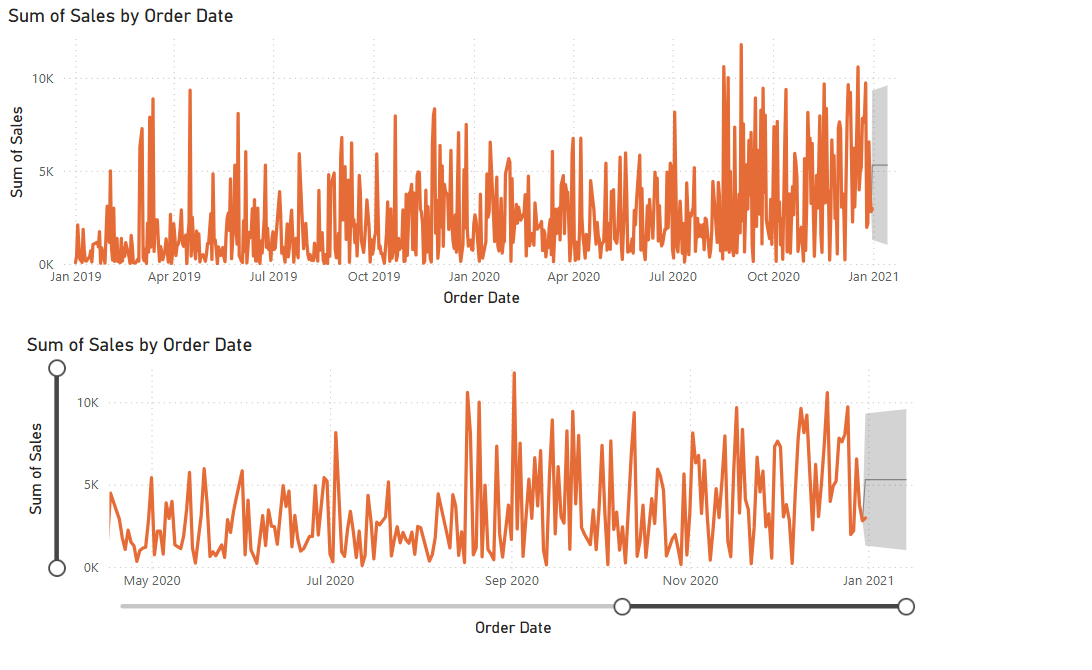

Layout of this report page (visuals, bound fields, positions):
{"tool":"powerbi","page":{"name":"Sum of sales by order date","canvas":[1280,720],"ordinal":1},"visuals":[{"type":"lineChart","fields":{"Y":["Sum(SuperStore_Sales_Dataset.Sales)"],"Category":["SuperStore_Sales_Dataset.Order Date"]},"box":[10,10,834,280],"z":0},{"type":"lineChart","fields":{"Y":["Sum(SuperStore_Sales_Dataset.Sales)"],"Category":["SuperStore_Sales_Dataset.Order Date"]},"box":[26.9,309.4,834,280],"z":1000}]}

Visuals, with their boxes on the page's 1280x720 design canvas (x1, y1, x2, y2). These are canvas units, not pixel positions in the 1092x670 screenshot, which may show the page scaled, cropped or inside an application window:
lineChart - Sum(SuperStore_Sales_Dataset.Sales) x SuperStore_Sales_Dataset.Order Date: pyautogui.locateOnScreen(10, 10, 844, 290)
lineChart - Sum(SuperStore_Sales_Dataset.Sales) x SuperStore_Sales_Dataset.Order Date: pyautogui.locateOnScreen(27, 309, 861, 589)
